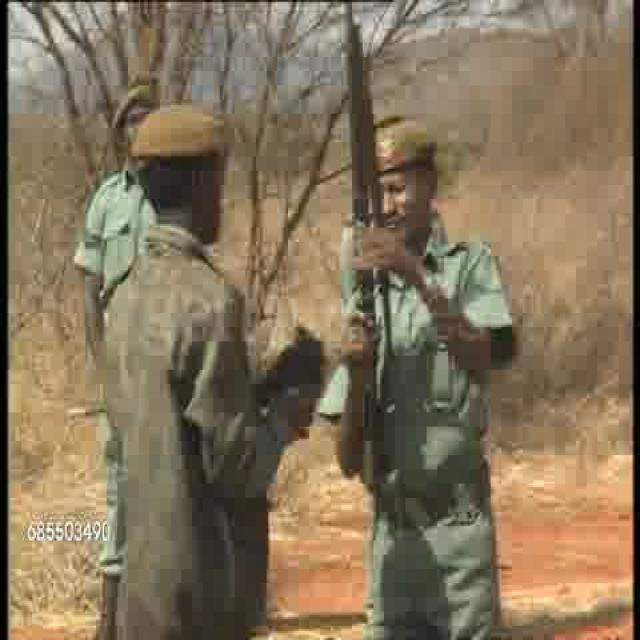poacher: (341, 128, 498, 636), (126, 105, 266, 587), (102, 88, 150, 138)
weapon: (346, 27, 374, 489)
